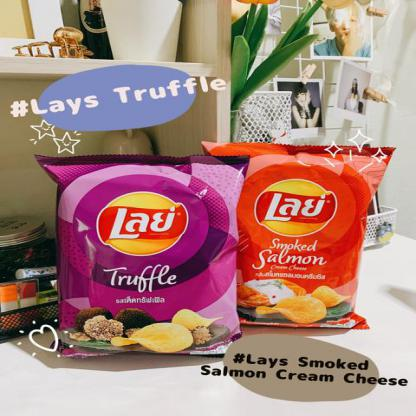potatochip: (32, 154, 244, 362), (198, 138, 391, 332)
